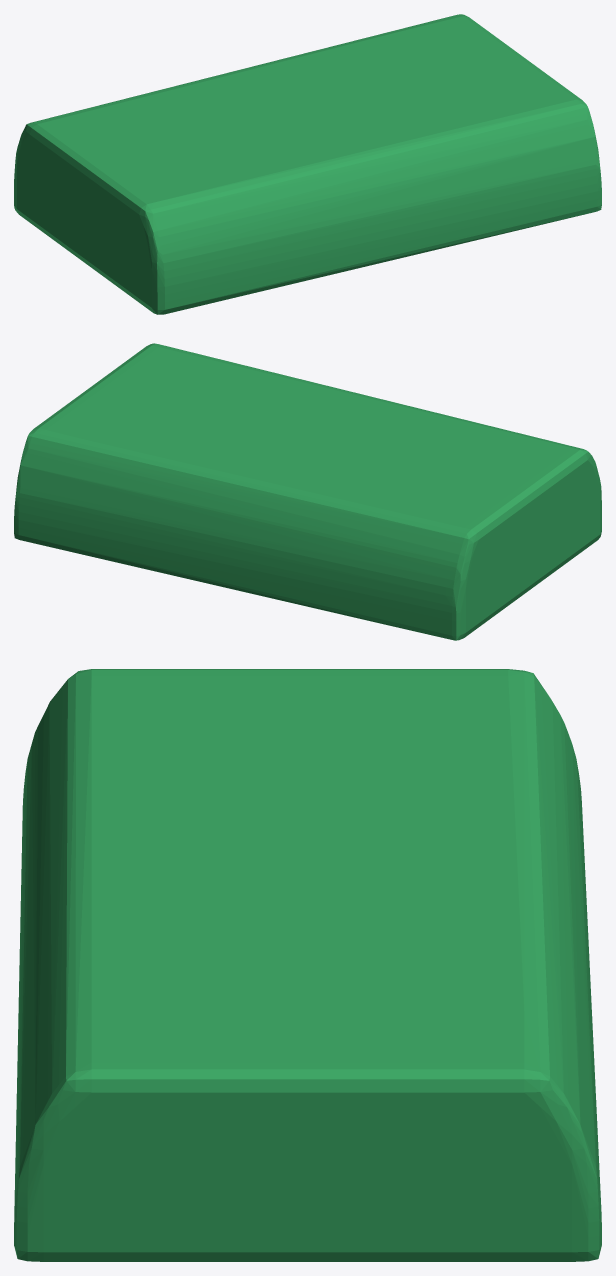
File: left_elbow_link_part_10.obj
3 renders of one model, top to bottom at view 1: azimuth 30°, elevation 25°; view 2: azimuth 150°, elevation 25°; view 3: azimuth 270°, elevation 25°, orthographic. The views are drawn at different scales.
Bounding box in the file's own units: 0.0905 × 0.0196 × 0.0544.
